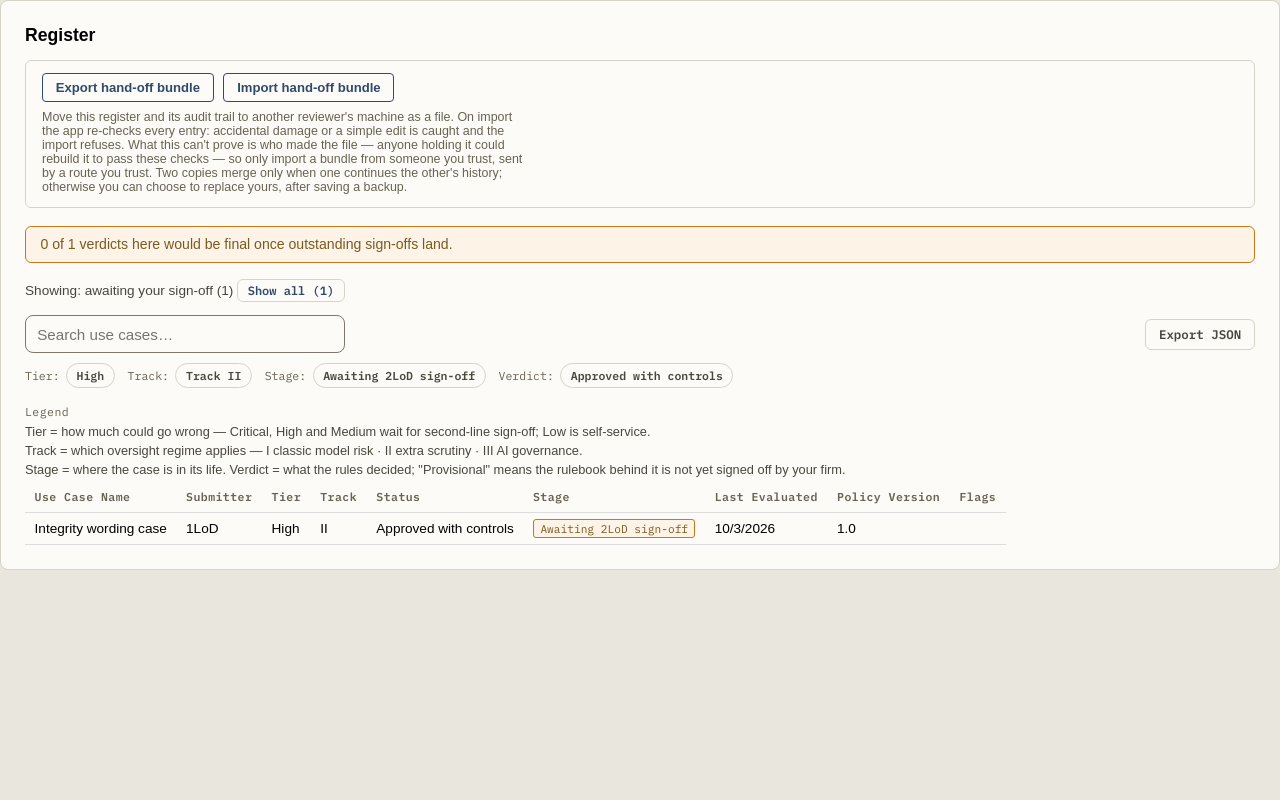
RegisterDetail — CR8-04 (P5): the integrity wording › TC-CR8-04c: the banner says only that no break was found in the events present, and the caveat names what is not detectable
The width and height of the screenshot is (1280, 800).
Click the button "Integrity wording case" at point(101, 528), box top-left (35, 521), bottom-right (167, 536)
(page scrolled)
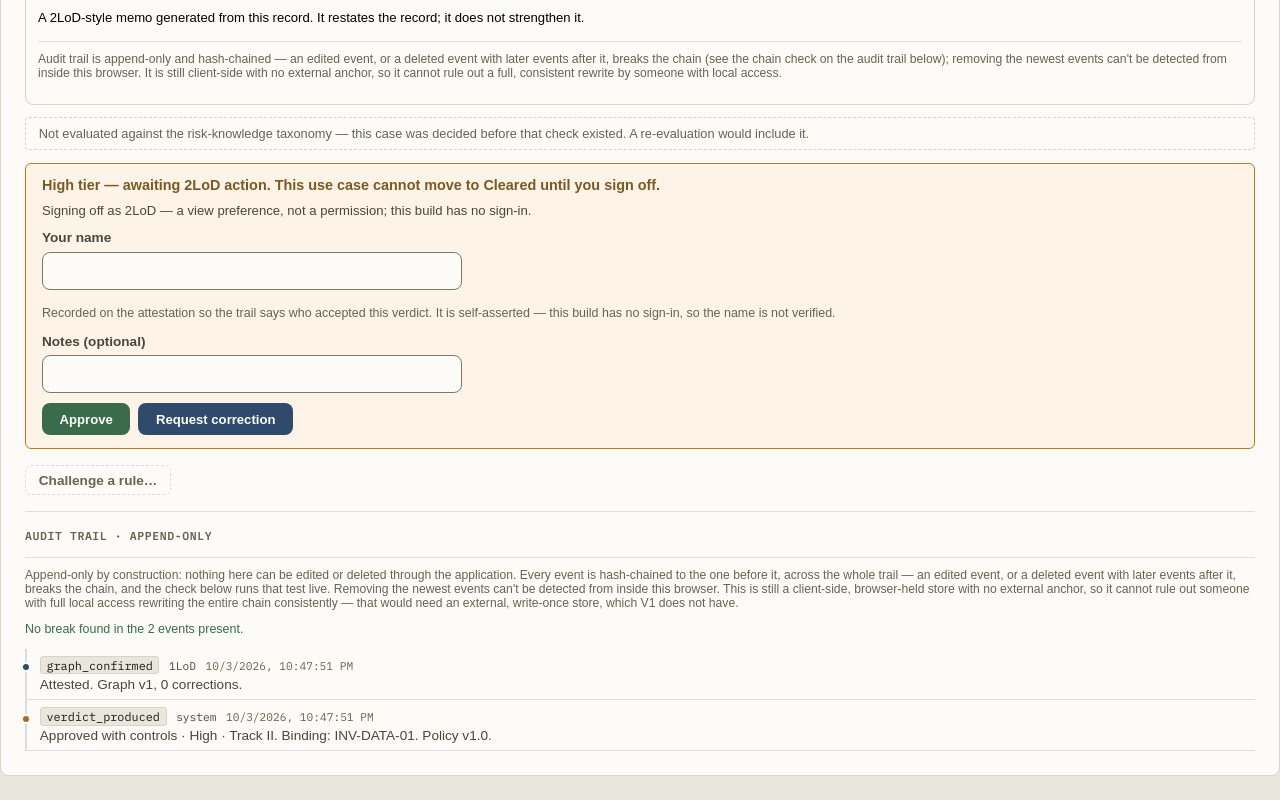
Expected: the text "No break found in the 2 events present." is shown, top-left (25, 622), bottom-right (243, 636)
Expected: the text with class "register-detail__caveat" shows "an edited event, or a deleted event with later events after it, breaks the chain", top-left (25, 568), bottom-right (1250, 610)
Expected: the text with class "register-detail__caveat" shows "removing the newest events can't be detected from inside this browser", top-left (25, 568), bottom-right (1250, 610)
